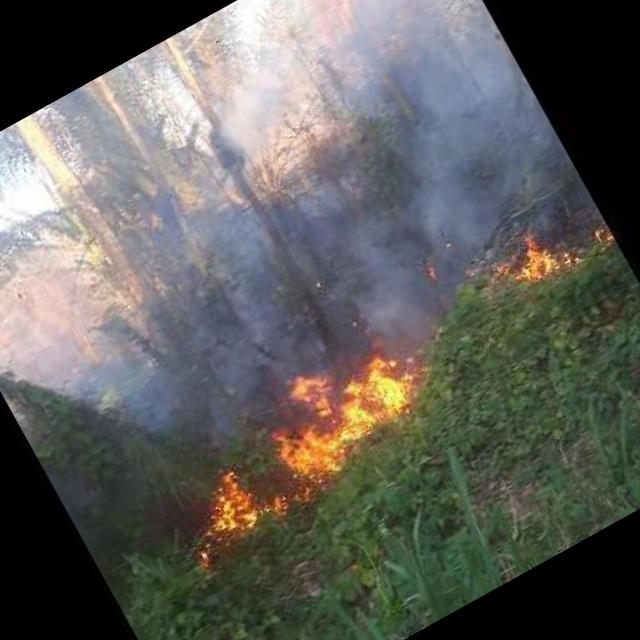fire: (139, 318, 455, 572), (494, 203, 600, 295)
smoke: (260, 6, 608, 353), (114, 185, 362, 448)
